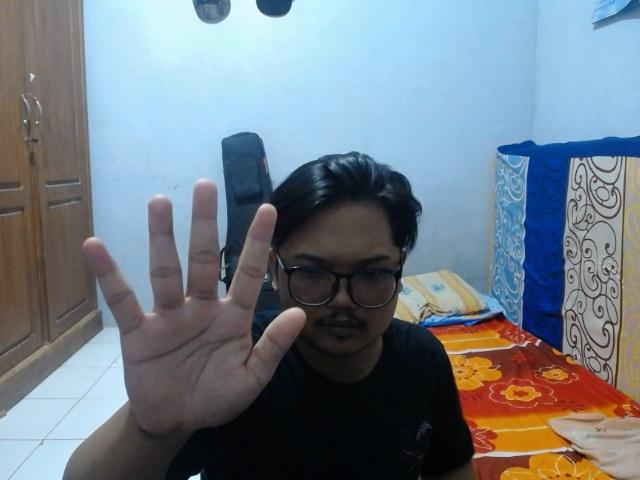Release: (78, 173, 311, 443)
